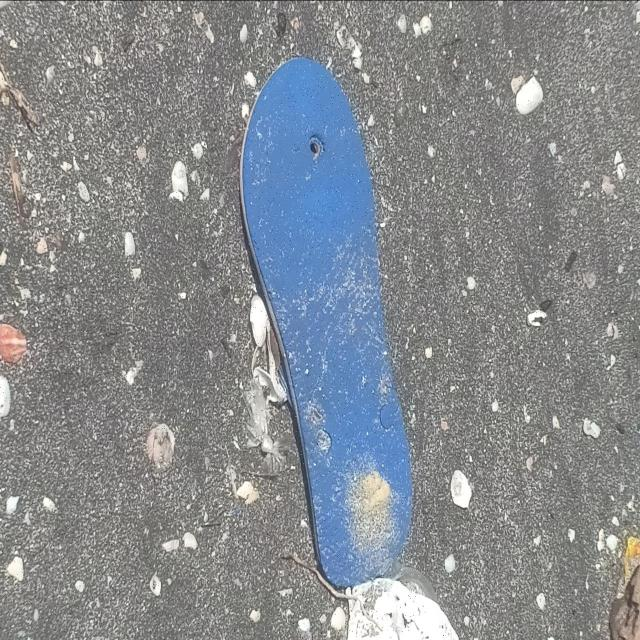rubber_waste: (240, 55, 414, 591)
